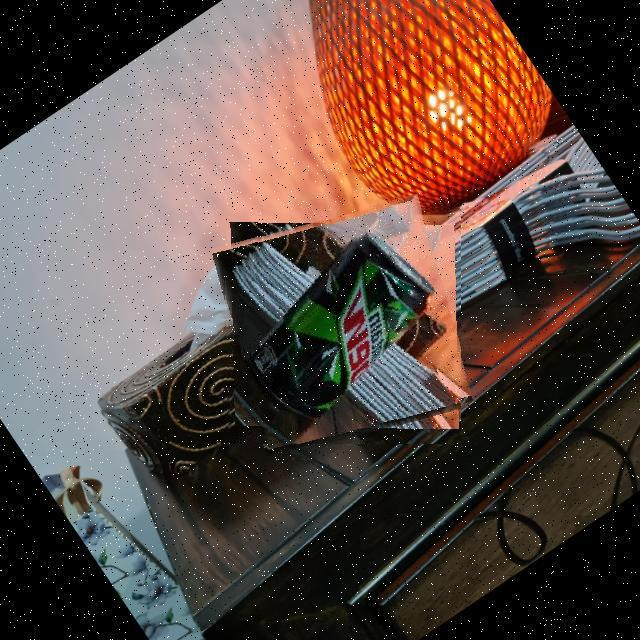recyclable: (223, 205, 461, 444)
